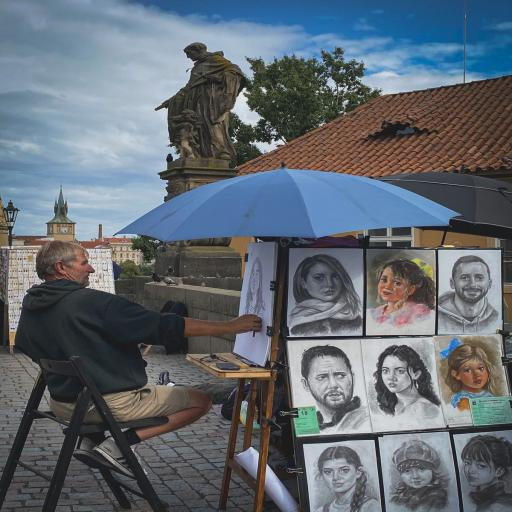bus: (0, 357, 168, 511)
laptop: (16, 241, 260, 445)
